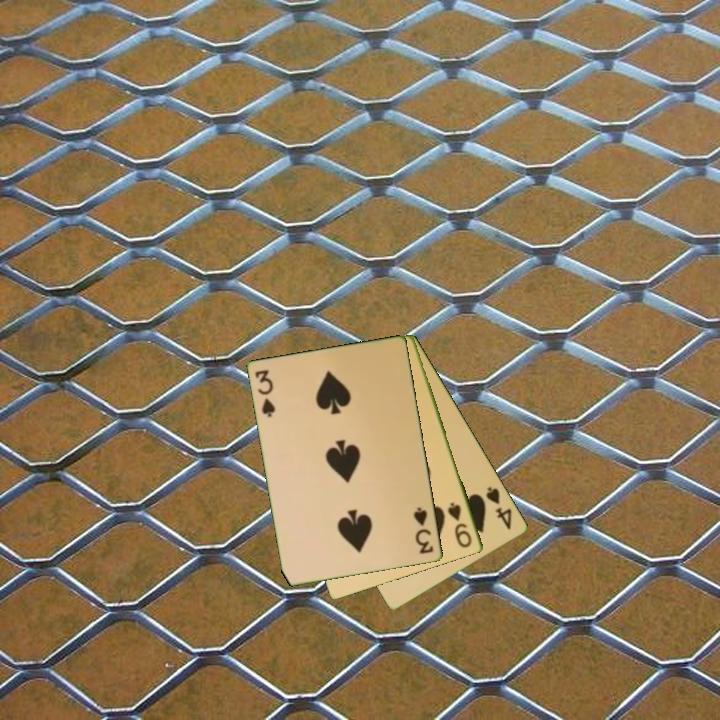3s: (252, 366, 279, 420), (410, 504, 436, 557)
4s: (483, 483, 515, 533)
9s: (444, 499, 475, 551)
